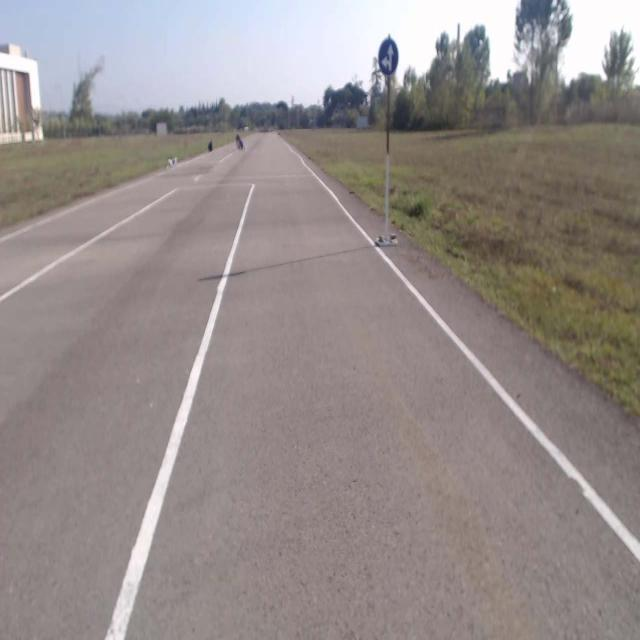ilerisol: (378, 39, 399, 77)
